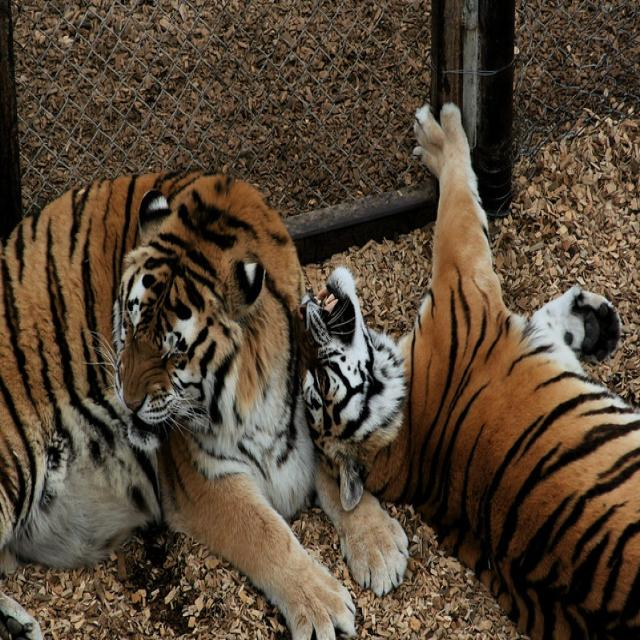Tiger: (0, 171, 409, 635), (292, 99, 639, 635)
